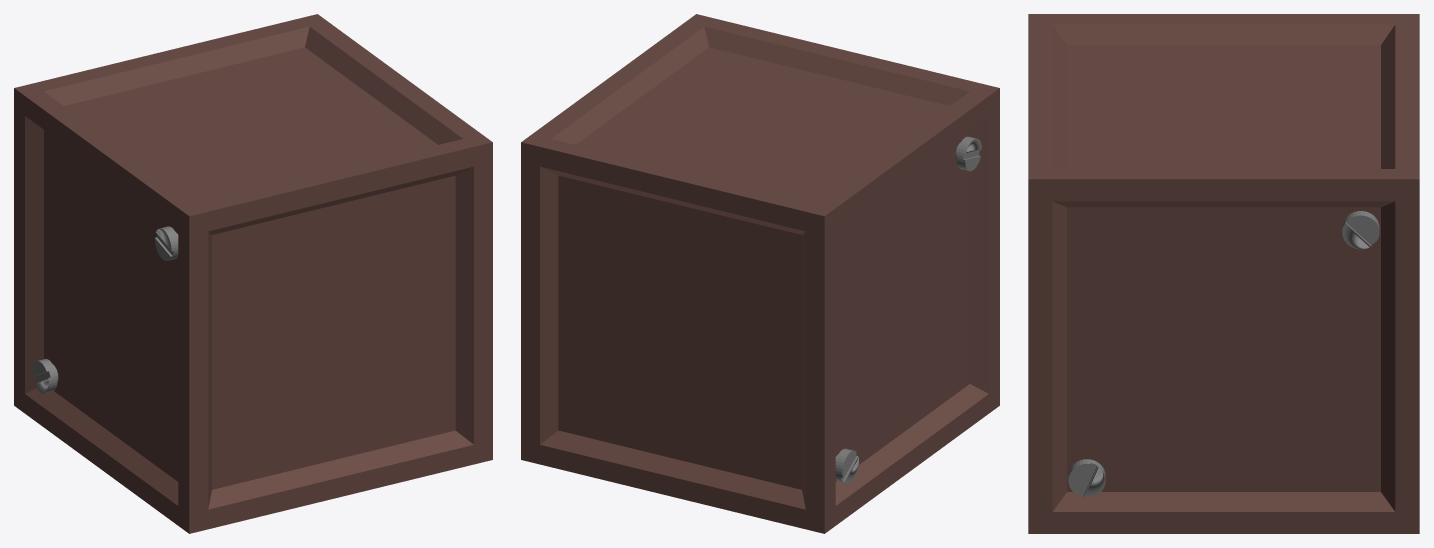
Rendered from WoodenBox.fbx.
The picture shows the model from 3 angles, left to right: view 1: azimuth 30°, elevation 25°; view 2: azimuth 150°, elevation 25°; view 3: azimuth 270°, elevation 25°; orthographic projection. The views are drawn at different scales.
Parts seen in each view (by area): view 1: Cube; view 2: Cube; view 3: Cube.
Boxes of the visible parts, x1,y1,x2,y2 form: Cube: [14, 14, 492, 533]; Cube: [521, 14, 999, 533]; Cube: [1028, 14, 1419, 533].
Bounding box in the file's own units: 200 × 200 × 200.
